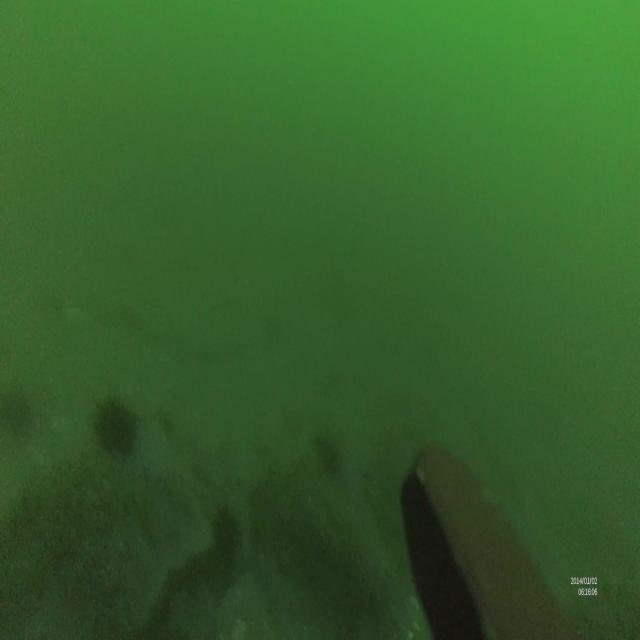echinus: (97, 397, 135, 455), (210, 507, 245, 561), (312, 433, 344, 478)
